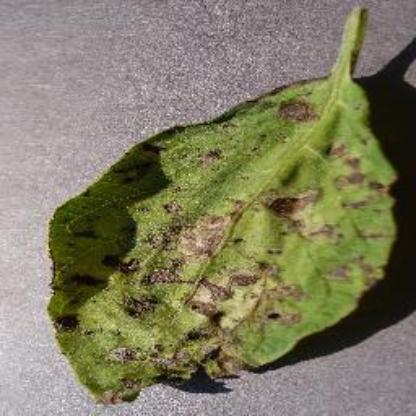Early-Blight: (38, 11, 408, 402)
